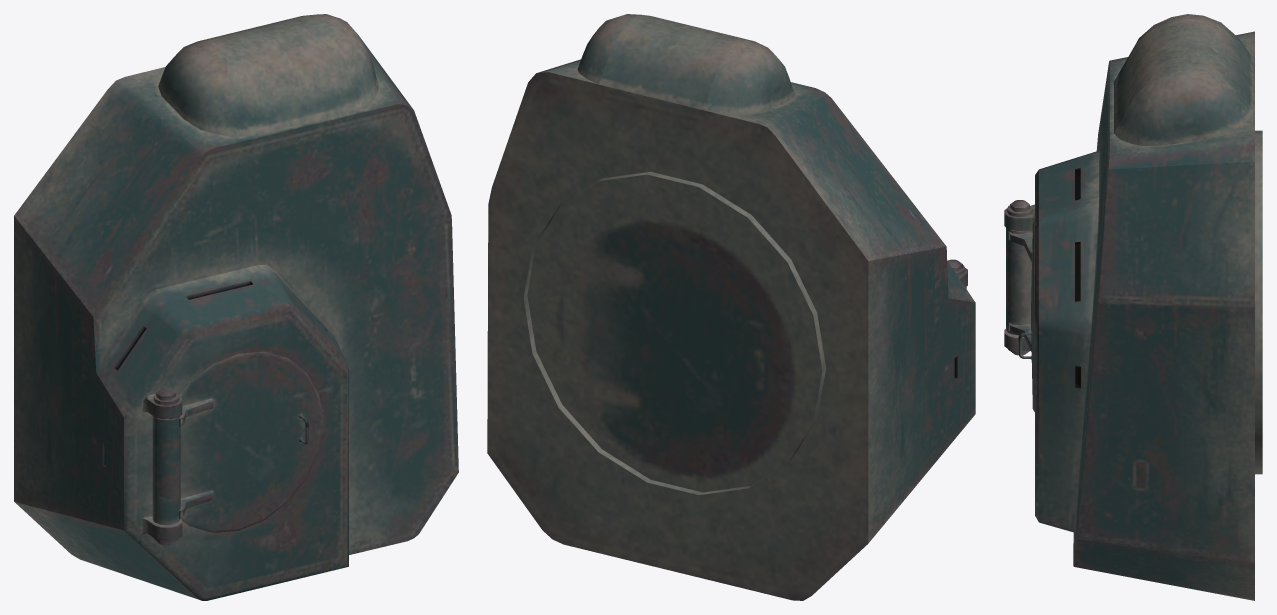
The model's file is Turret_01.glb.
The picture shows the model from 3 angles, left to right: view 1: azimuth 30°, elevation 25°; view 2: azimuth 150°, elevation 25°; view 3: azimuth 270°, elevation 25°; orthographic projection.
Visible parts, largest first — view 1: set_0_group_0; view 2: set_0_group_0; view 3: set_0_group_0.
Boxes of the visible parts, x1,y1,x2,y2 form: set_0_group_0: (14,14,458,600); set_0_group_0: (487,14,975,600); set_0_group_0: (1004,14,1262,600).
Size of the model in its own units: 1.66 by 2.13 by 0.9768.
Materials: 1 (1 with a texture image).
